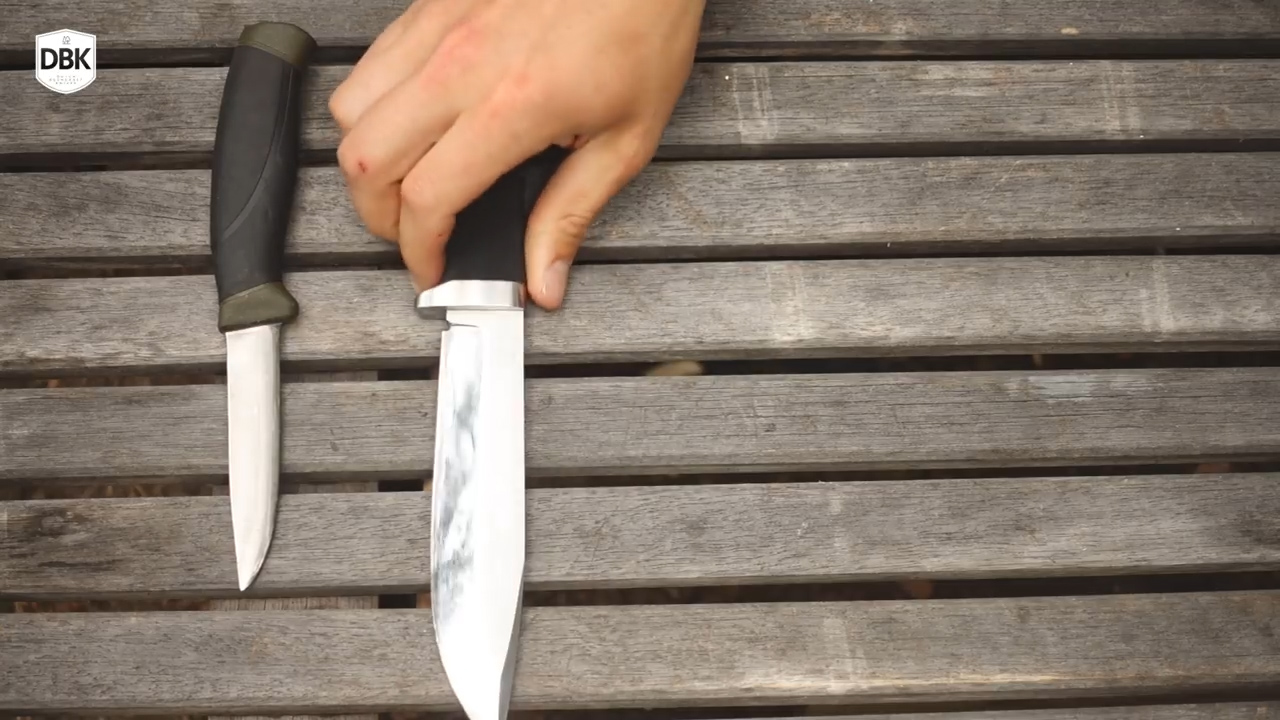knife: (327, 162, 614, 720), (190, 243, 301, 606)
